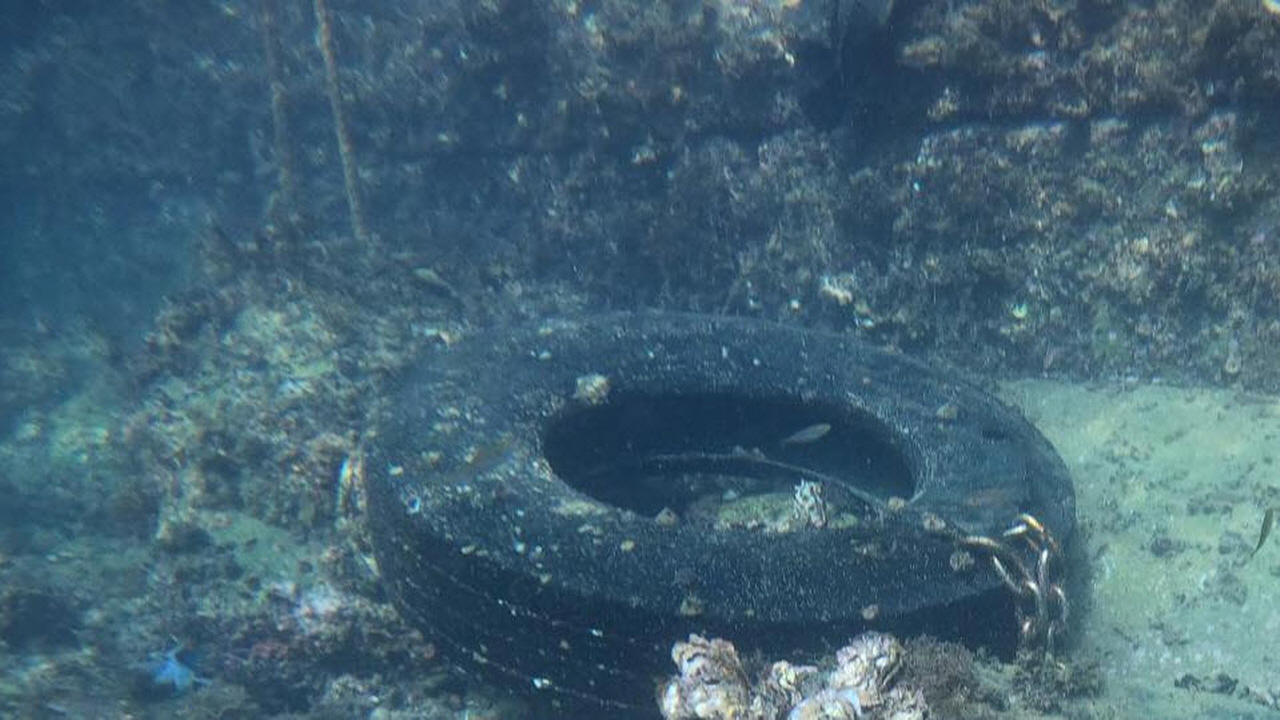tire: (364, 308, 1076, 713)
